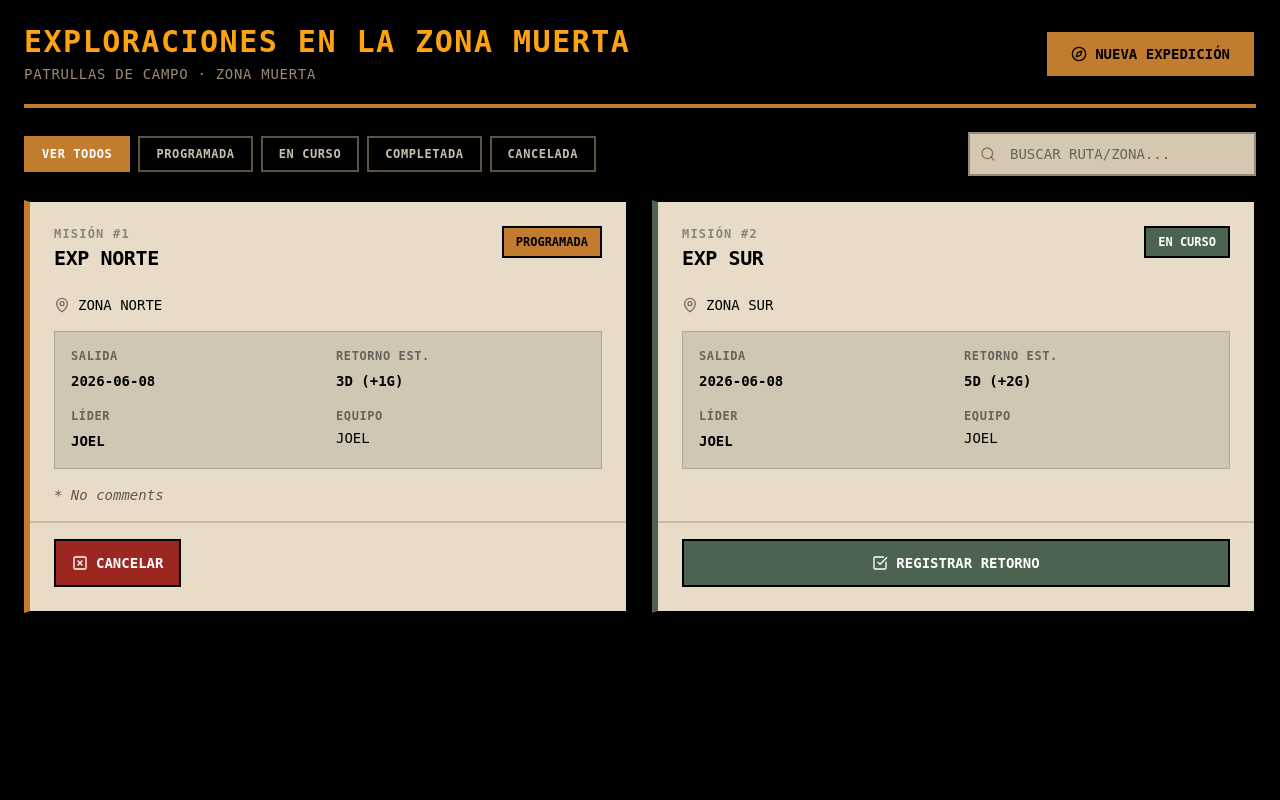
Scenario: ExplorationsView Component › renders explorations and filters by status
Expected: the heading "EXPLORACIONES EN LA ZONA MUERTA" is shown, [24, 24, 630, 60]
Expected: the heading "Exp Norte" is shown, [54, 246, 159, 270]
Filter by Progress
Click the button "EN CURSO": (310, 154) [261, 136, 359, 172]
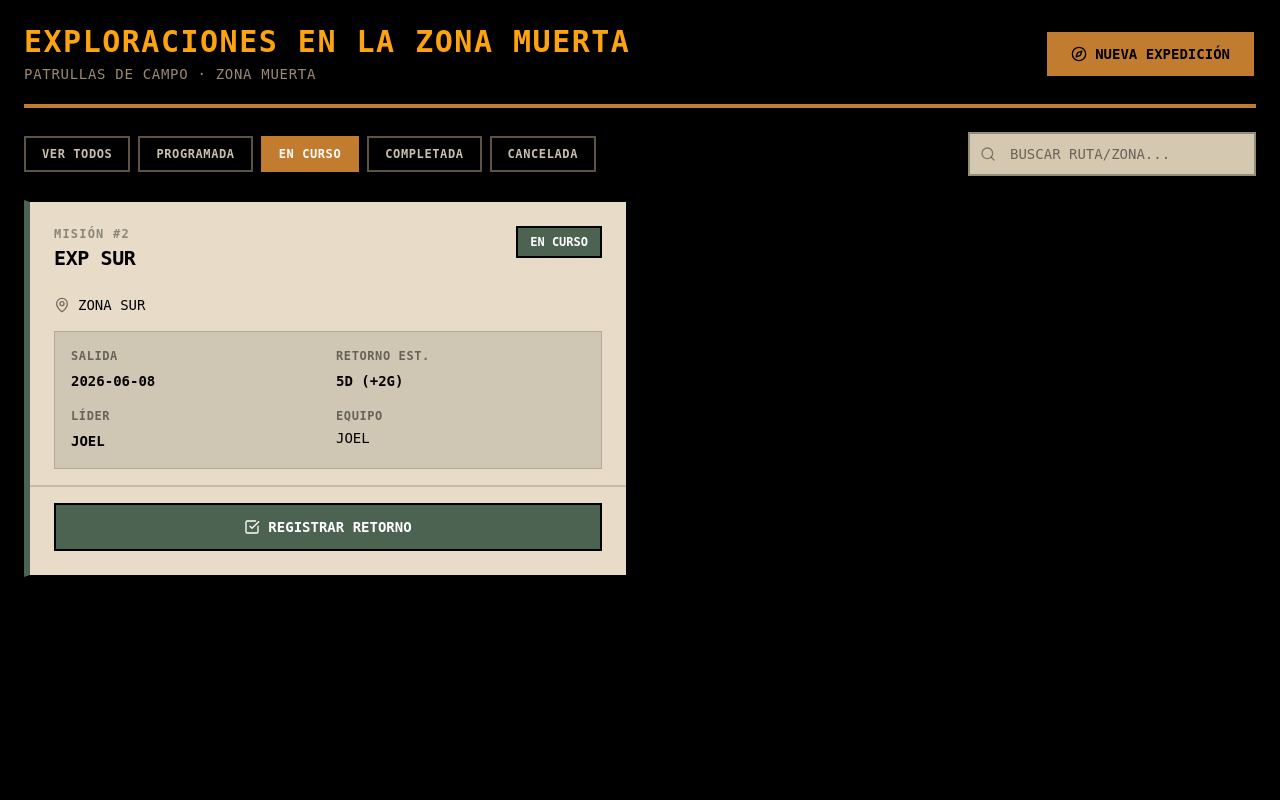
Expected: the heading "Exp Sur" is shown, [54, 246, 136, 270]
Result: the heading "Exp Norte" is gone
